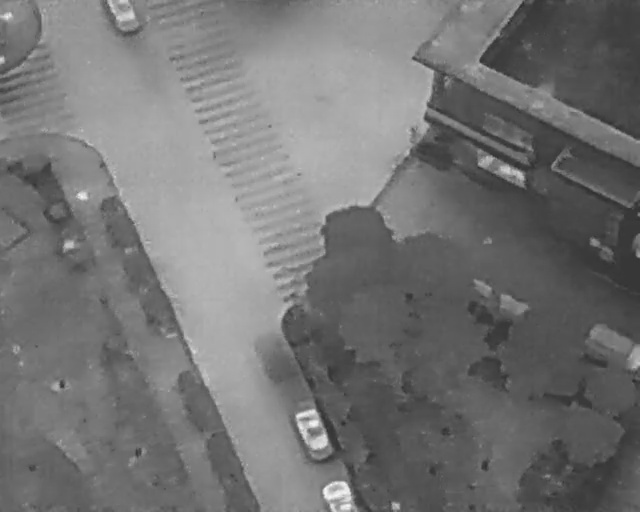Car: (291, 396, 337, 463), (103, 0, 141, 35), (320, 478, 359, 511)
